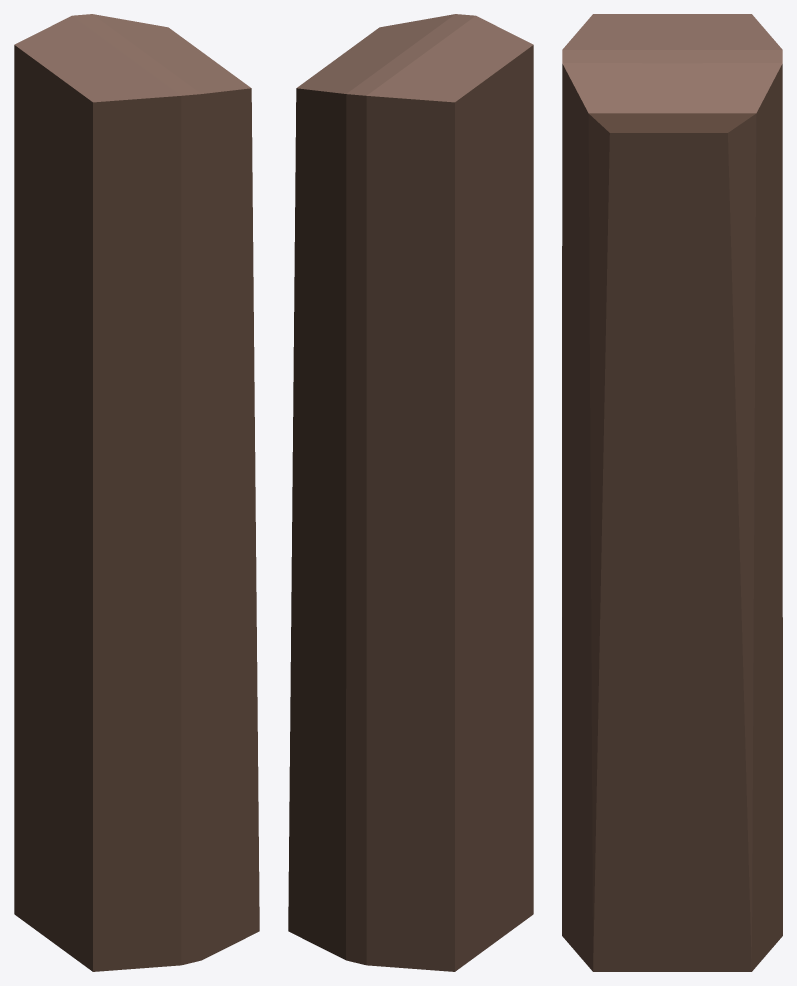
The model's file is stone_pillar_07.glb.
The picture shows the model from 3 angles, left to right: view 1: azimuth 30°, elevation 25°; view 2: azimuth 150°, elevation 25°; view 3: azimuth 270°, elevation 25°; orthographic projection.
Parts seen in each view (by area): view 1: Plane.004; view 2: Plane.004; view 3: Plane.004.
Part boxes in pixels (x1,y1,x2,y2): Plane.004: [14, 14, 259, 971]; Plane.004: [288, 14, 533, 971]; Plane.004: [562, 14, 782, 971].
Size of the model in its own units: 10 by 49.85 by 11.39.
Materials: 1 (1 with a texture image).
